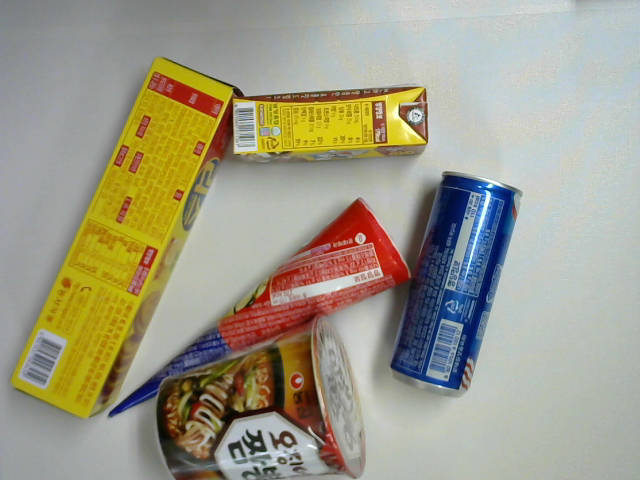Choco_E_Mong: (223, 79, 432, 162)
Ojjam: (149, 311, 379, 480)
Pepsi_Cola_Can_250ml: (387, 166, 528, 400)
Ritz_Remon_96g: (4, 53, 249, 422)
World_Cone_Banila: (101, 191, 415, 431)
